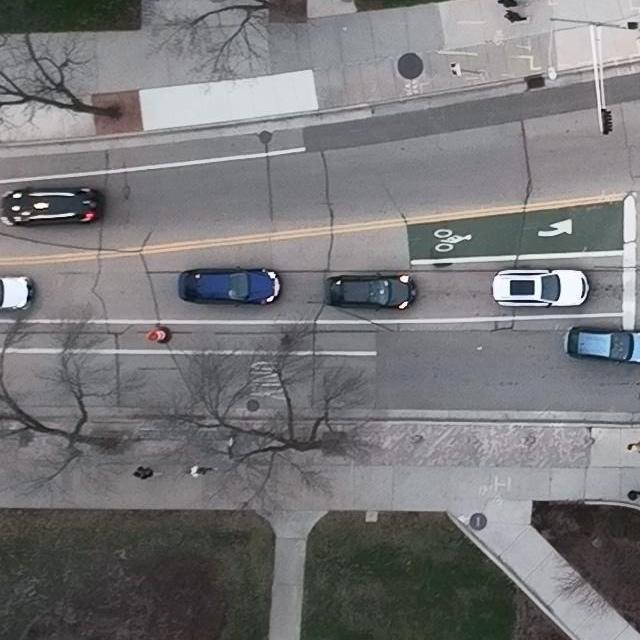car: (177, 265, 282, 309), (0, 187, 105, 228), (324, 268, 417, 313), (492, 266, 589, 309), (566, 325, 640, 365), (0, 273, 34, 313)
